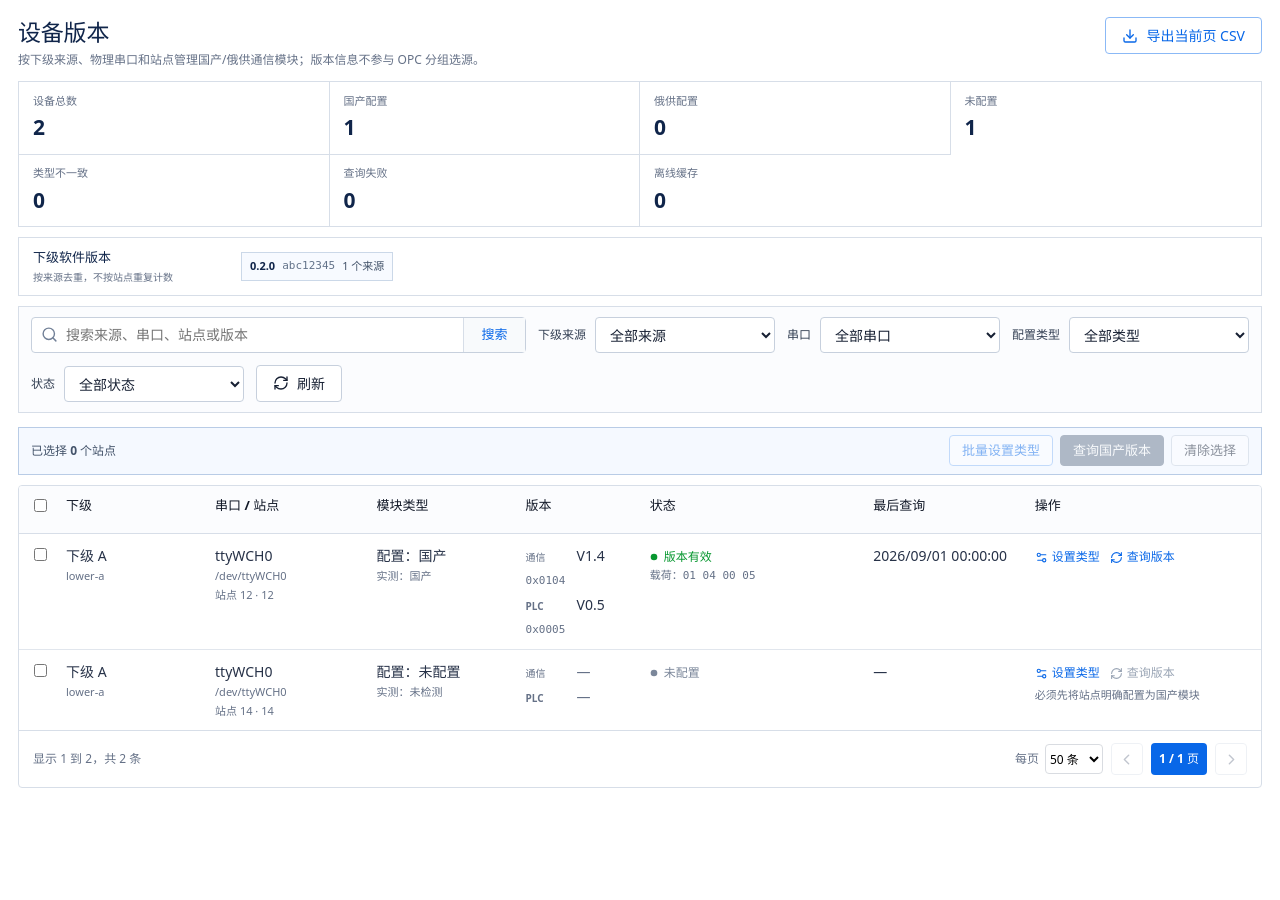
Scenario: device version inventory › does not leave writable rows from a previous filter visible while the next inventory loads
Check: the row "站点 12" is shown, box [19,534,1261,650]
Select "查询失败" in the dropdown labelled "状态" at (154, 384), box [64,366,244,402]
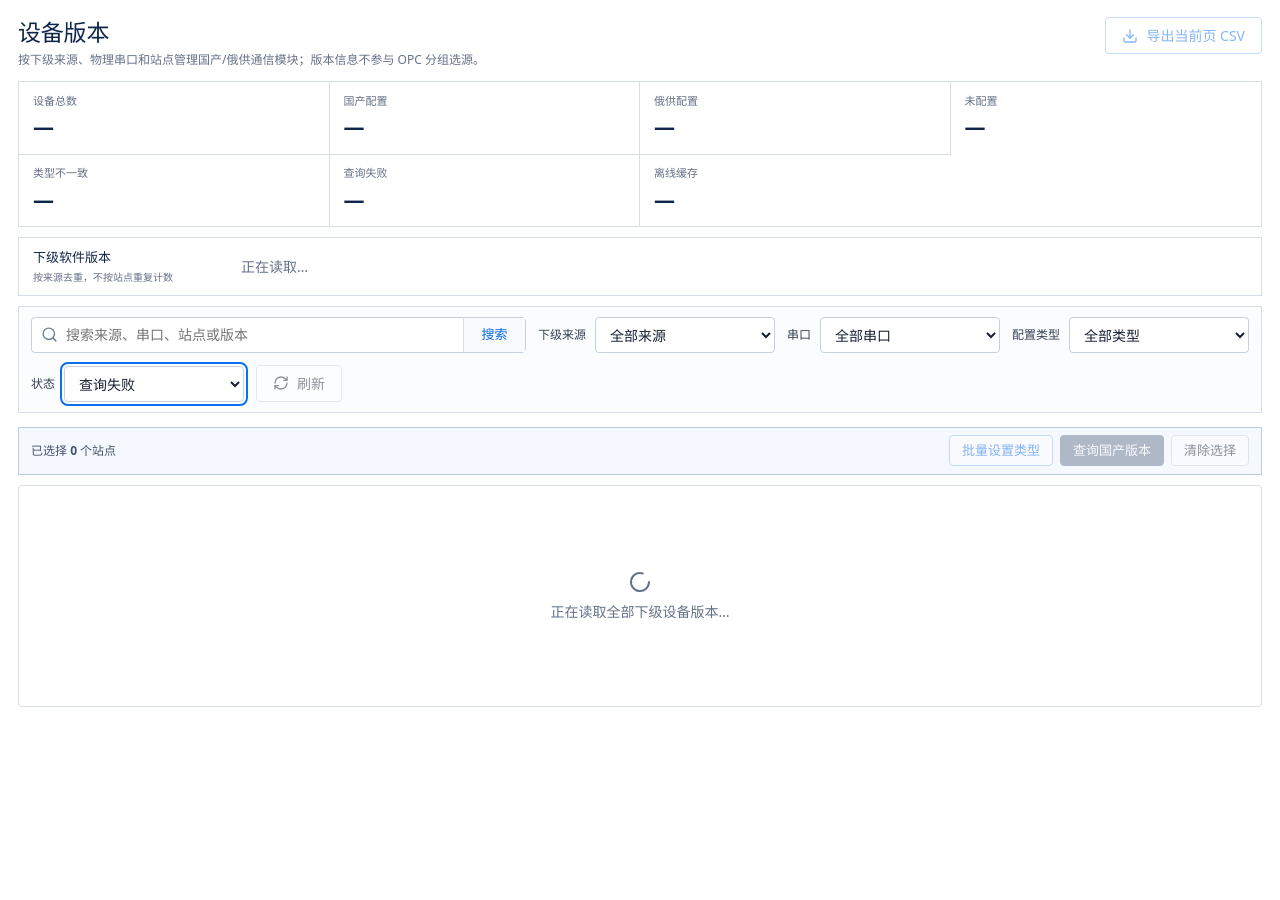
Check: the text "正在读取全部下级设备版本…" is shown, box [550,600,730,622]
Check: the text "站点 12" is gone
